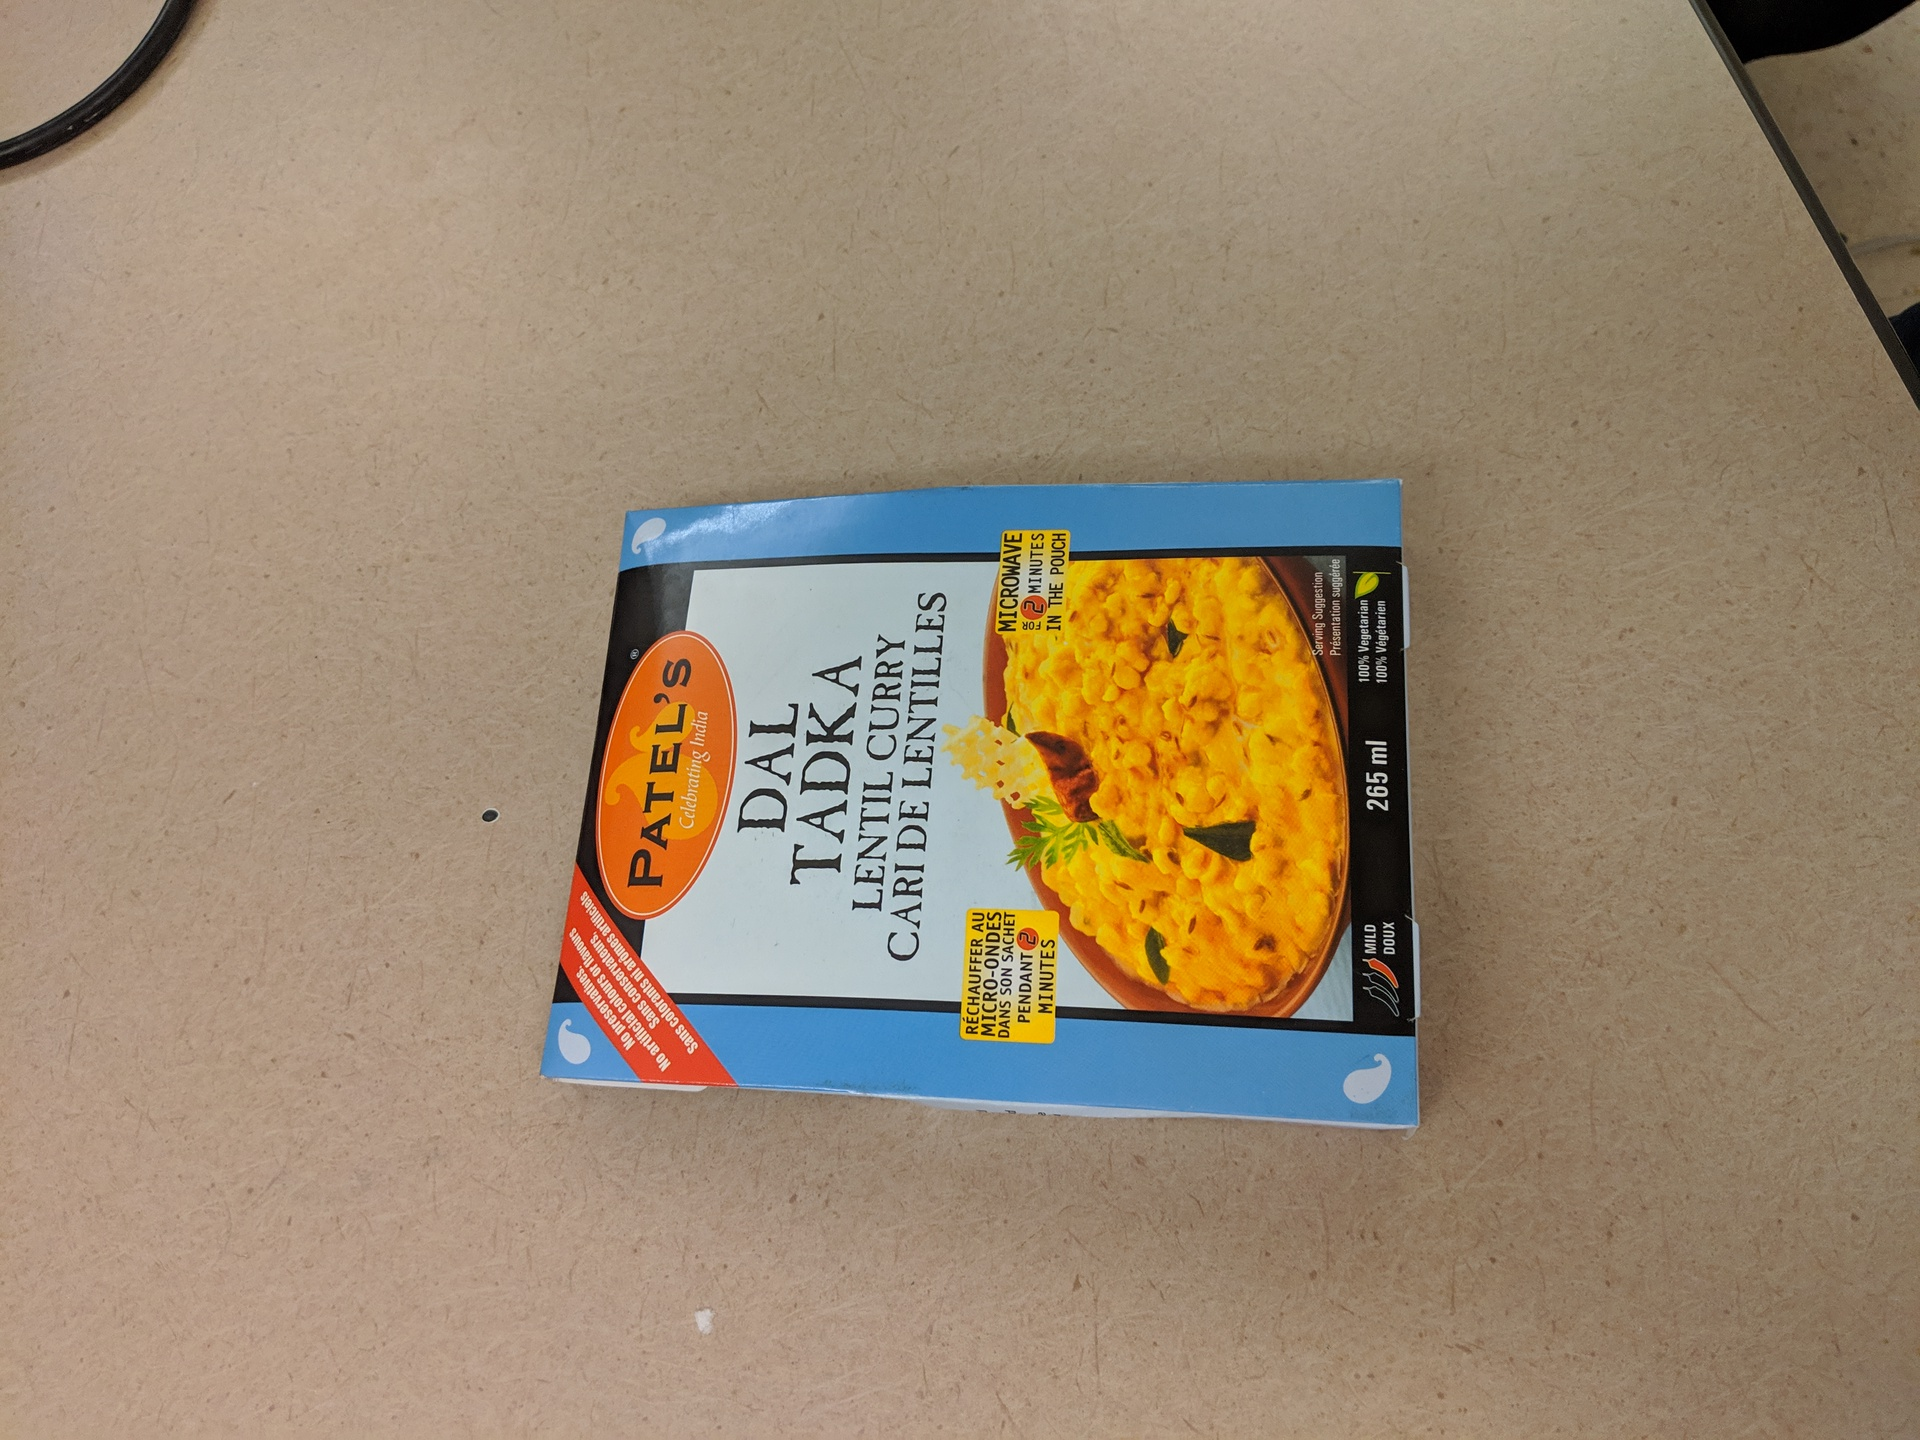patels_dal_tadka_lentil_curry: (558, 487, 1411, 1131)
